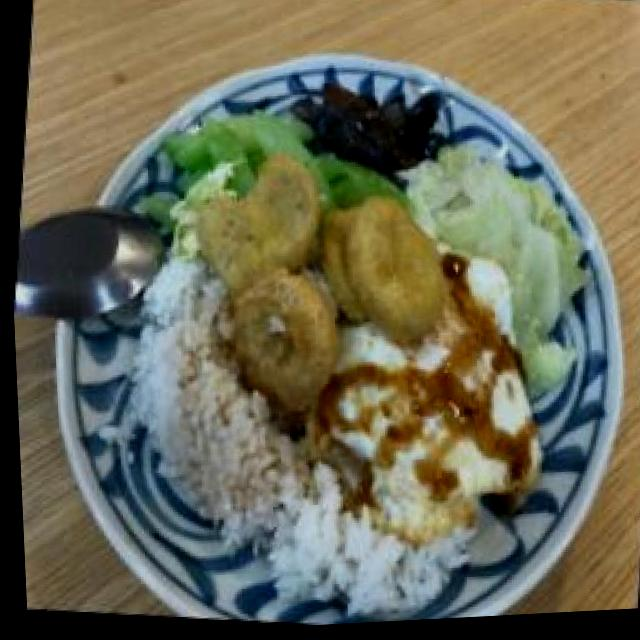chicken_nuggets: (179, 142, 458, 426)
chinese_cabbage: (445, 165, 562, 287)
fried_eggs: (303, 275, 558, 563)
rice: (128, 271, 231, 458), (279, 516, 445, 627), (200, 412, 301, 580)
